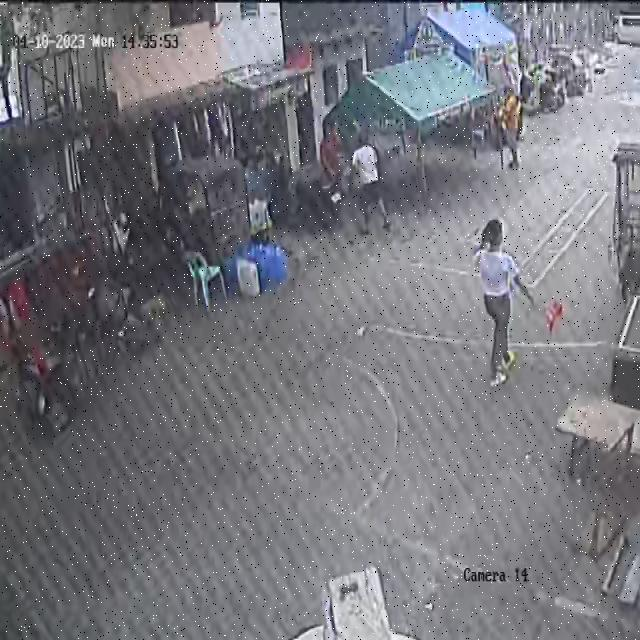human: (472, 218, 562, 386)
trash: (540, 288, 564, 334)
